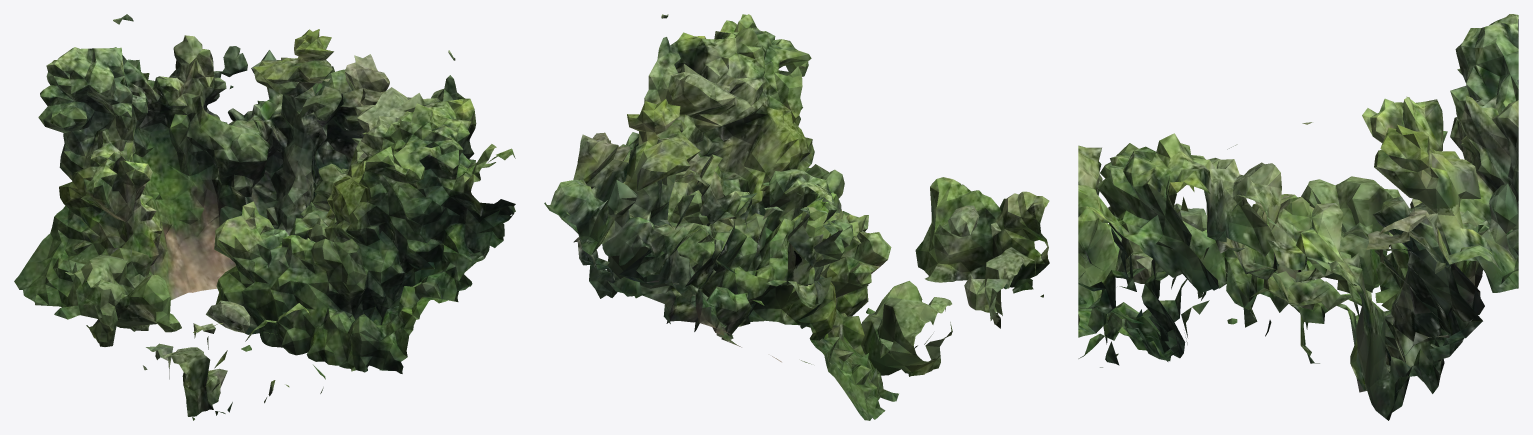
3 views of the same model, side by side, from view 1: azimuth 30°, elevation 25°; view 2: azimuth 150°, elevation 25°; view 3: azimuth 270°, elevation 25° (orthographic). The views are drawn at different scales.
Bounding box in the file's own units: 52.22 × 38.93 × 52.22.
8 materials, 8 textured.
